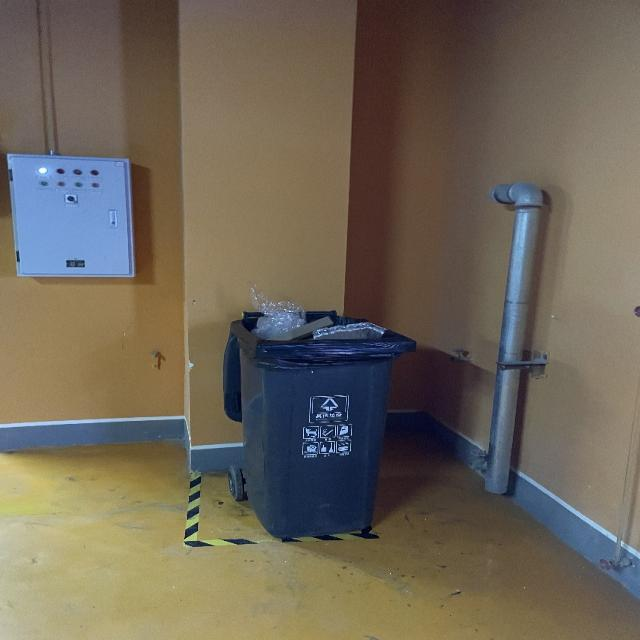overflow: (222, 284, 416, 539)
